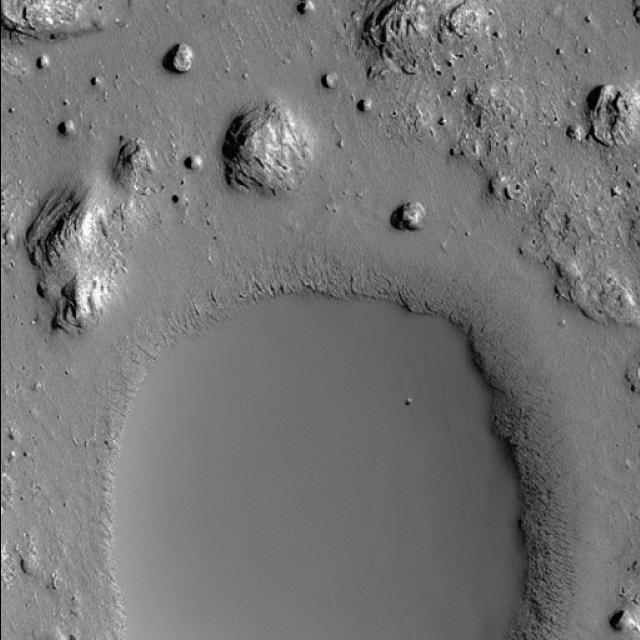crater: (112, 287, 532, 640)
